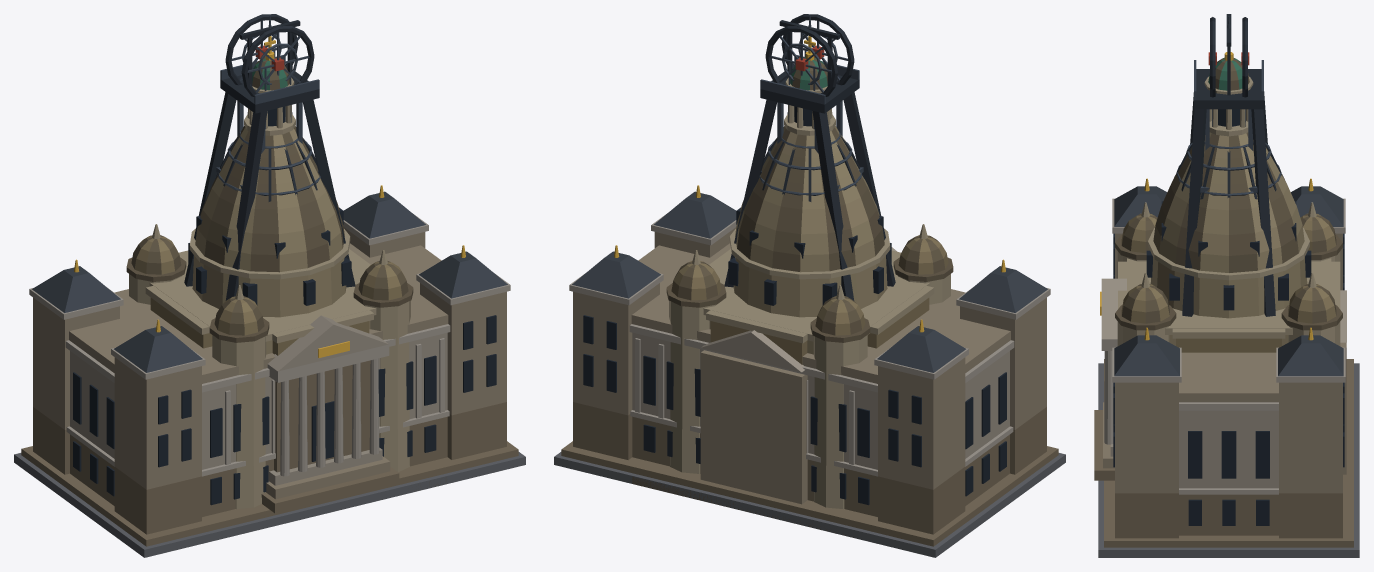
File: germany_landmarks.glb
The picture shows the model from 3 angles, left to right: view 1: azimuth 30°, elevation 25°; view 2: azimuth 150°, elevation 25°; view 3: azimuth 270°, elevation 25°; orthographic projection.
Visible parts, largest first — view 1: REICHSTAG_DOME, FRAUENKIRCHE, ZOLLVEREIN_TOWER; view 2: REICHSTAG_DOME, FRAUENKIRCHE, ZOLLVEREIN_TOWER; view 3: REICHSTAG_DOME, FRAUENKIRCHE, ZOLLVEREIN_TOWER.
Part boxes in pixels (x1,y1,x2,y2): REICHSTAG_DOME: (14,132,525,557); FRAUENKIRCHE: (126,36,446,508); ZOLLVEREIN_TOWER: (184,14,355,300); REICHSTAG_DOME: (554,132,1065,557); FRAUENKIRCHE: (632,36,953,537); ZOLLVEREIN_TOWER: (724,14,895,300); REICHSTAG_DOME: (1094,142,1359,557); FRAUENKIRCHE: (1115,52,1342,352); ZOLLVEREIN_TOWER: (1182,14,1275,316).
Size of the model in its own units: 9.8 by 11 by 5.89.
